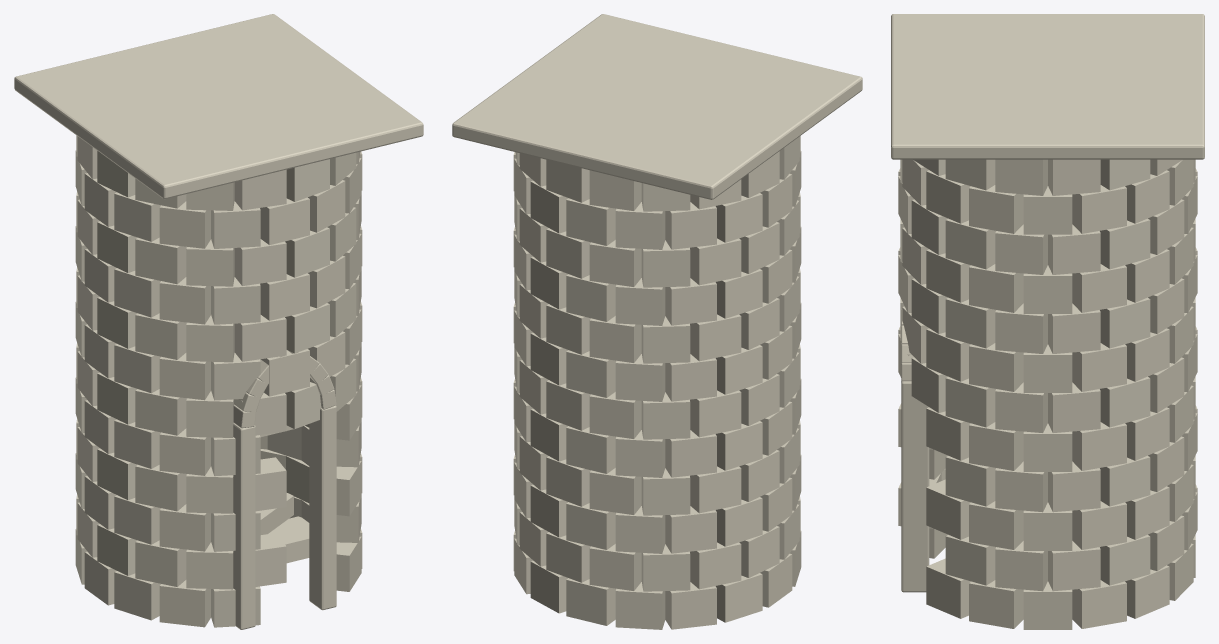
File: stone_stone_stair_vice_0.glb
3 renders of one model, left to right at view 1: azimuth 30°, elevation 25°; view 2: azimuth 150°, elevation 25°; view 3: azimuth 270°, elevation 25°, orthographic. The views are drawn at different scales.
Visible parts, largest first — view 1: world; view 2: world; view 3: world.
Part boxes in pixels (box(x1,y1,x2,y2)): world: box(14, 14, 423, 629); world: box(452, 14, 862, 629); world: box(891, 14, 1204, 629).
Size of the model in its own units: 1.16 by 2 by 1.16.
